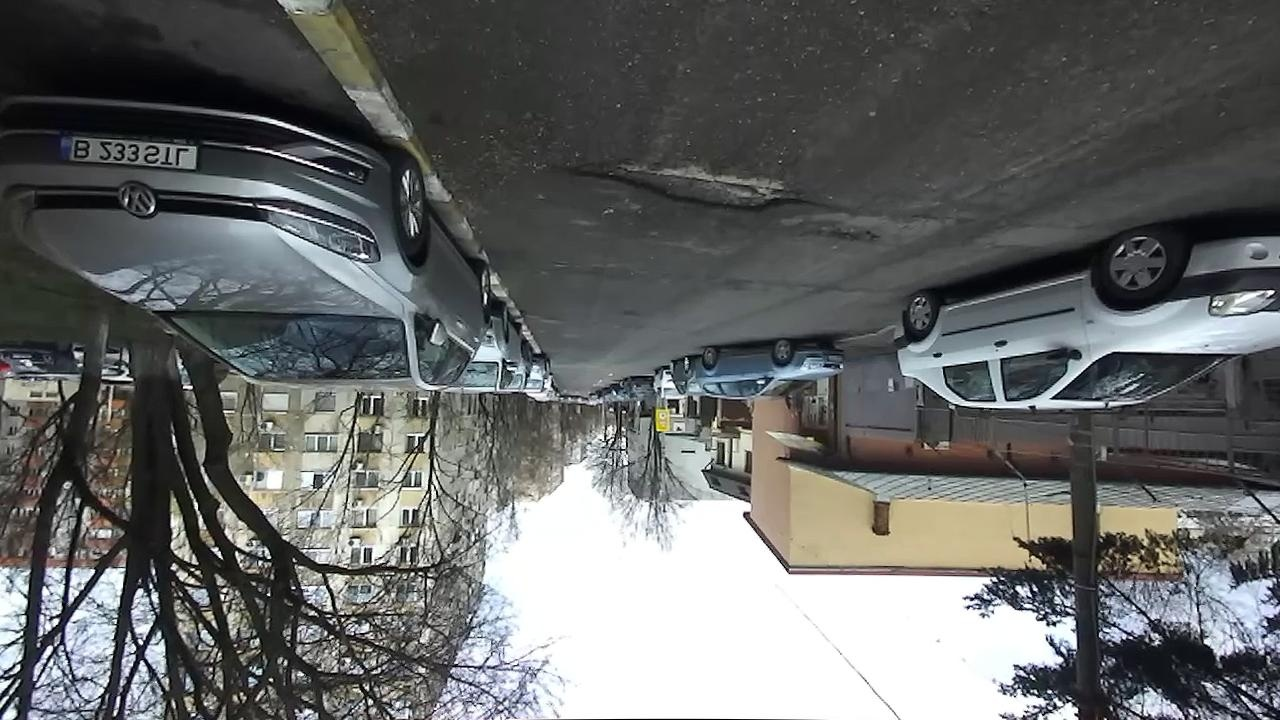pothole: (550, 158, 830, 217), (795, 223, 890, 249)
